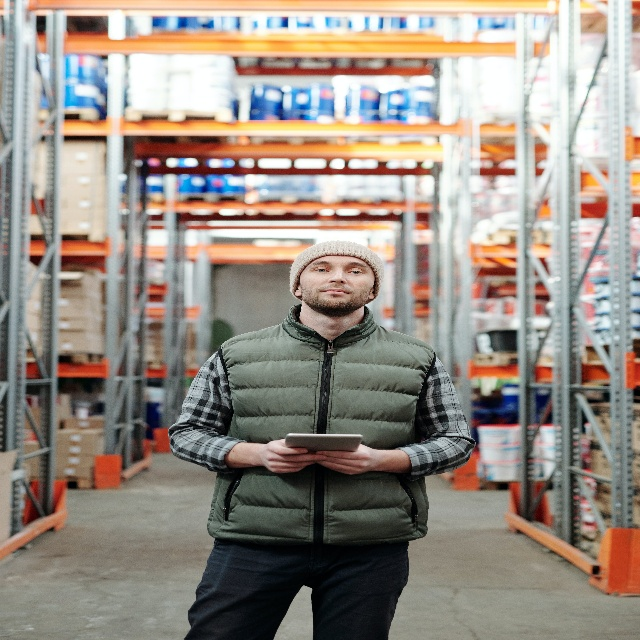Sin_guantes: (261, 437, 326, 473), (315, 443, 375, 476)
